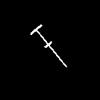double_crochet: (31, 25, 66, 66)
